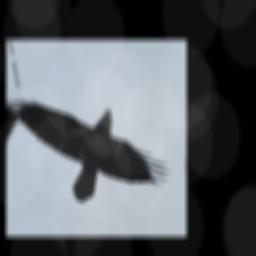Crow: (14, 79, 176, 209)
